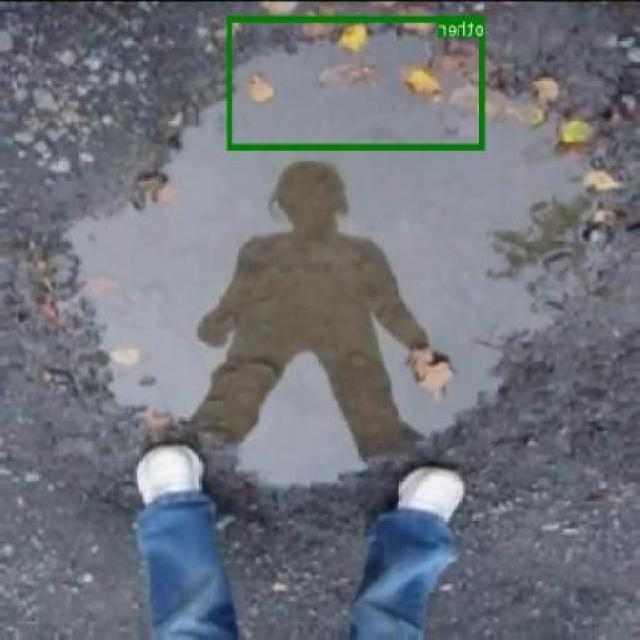other: (228, 15, 486, 148)
